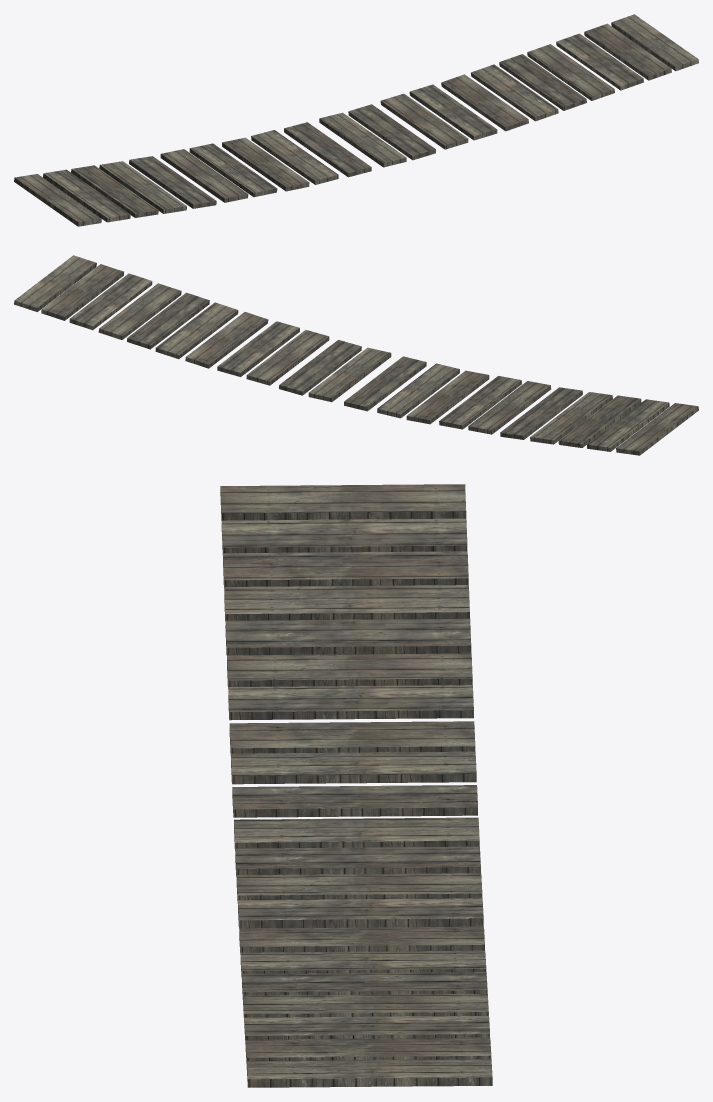
File: bridgeFort.dae
3 renders of one model, top to bottom at view 1: azimuth 30°, elevation 25°; view 2: azimuth 150°, elevation 25°; view 3: azimuth 270°, elevation 25°, orthographic. The views are drawn at different scales.
Parts seen in each view (by area): view 1: Fort_Bridge1500; view 2: Fort_Bridge1500; view 3: Fort_Bridge1500.
Part boxes in pixels (x1,y1,x2,y2): Fort_Bridge1500: (14, 14, 698, 226); Fort_Bridge1500: (14, 255, 698, 455); Fort_Bridge1500: (220, 484, 492, 1087).
Size of what is drawn, in the model's own units: 14.59 by 0.6396 by 2.77.
